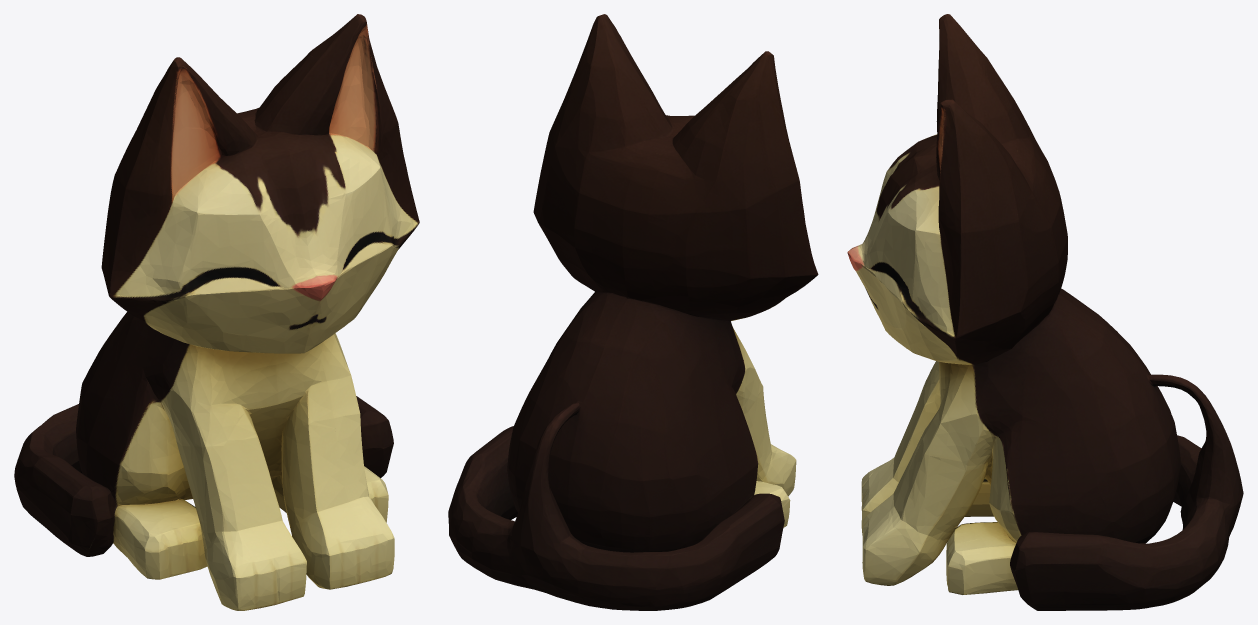
Rendered from gato.glb.
The picture shows the model from 3 angles, left to right: view 1: azimuth 30°, elevation 25°; view 2: azimuth 150°, elevation 25°; view 3: azimuth 270°, elevation 25°; orthographic projection. The views are drawn at different scales.
Parts seen in each view (by area): view 1: world; view 2: world; view 3: world.
Part boxes in pixels (box(x1,y1,x2,y2)): world: box(14, 14, 419, 610); world: box(448, 14, 818, 610); world: box(847, 14, 1243, 610).
Size of the model in its own units: 0.6287 by 0.9992 by 0.7233.
1 material, 1 textured.
